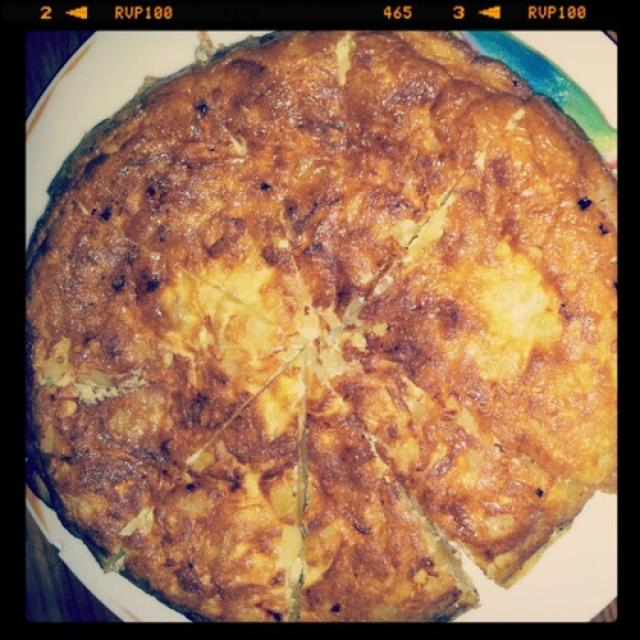面包点心: (48, 42, 602, 613)
